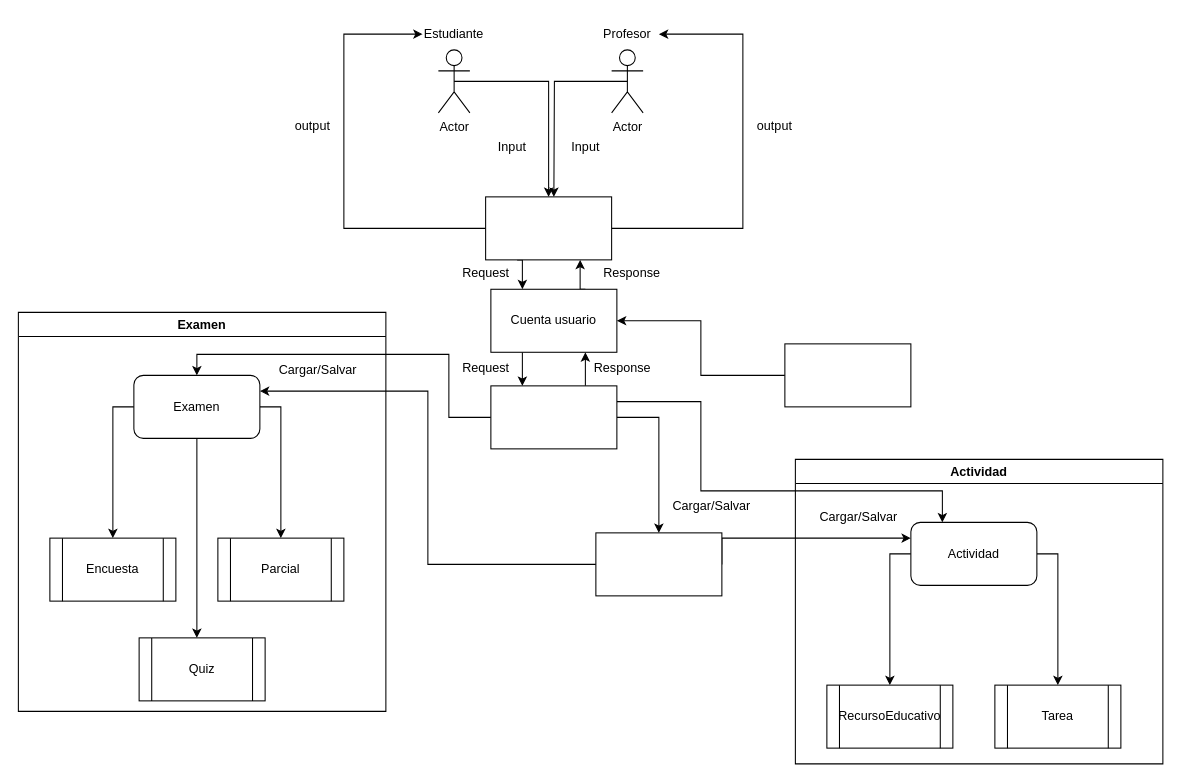
Image size: 1181x782. Some labels were removed from this diagram. Each missing label, with the box of its shape:
CentralLogica: (485, 196, 612, 260)
CentralPersistencia: (595, 532, 722, 596)
LearningPath: (490, 385, 617, 449)
Usuarios: (784, 343, 911, 407)
